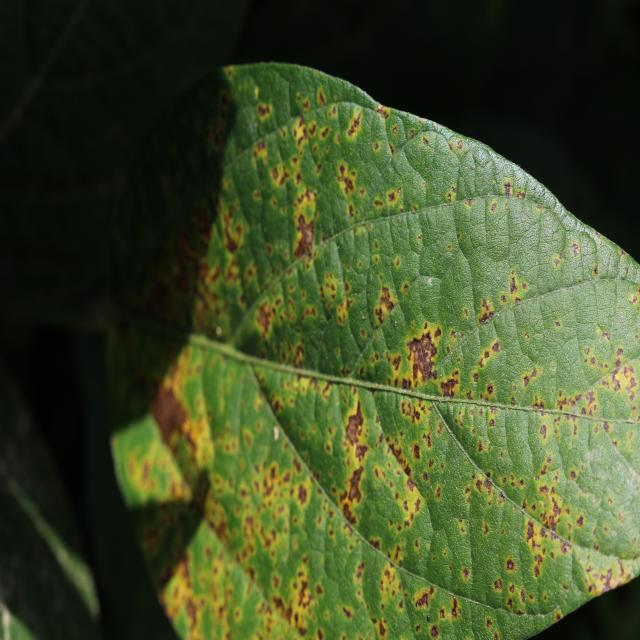Bacterial_Blight: (173, 543, 244, 638), (200, 351, 242, 468), (191, 234, 237, 334), (295, 212, 395, 253), (151, 378, 195, 459), (288, 378, 322, 454), (468, 469, 507, 521), (266, 315, 305, 365), (405, 331, 439, 383), (482, 600, 555, 622), (343, 394, 371, 450), (540, 493, 565, 533), (293, 214, 315, 258), (556, 388, 587, 415), (610, 364, 635, 396), (346, 464, 365, 506), (223, 219, 244, 253), (336, 165, 357, 198), (256, 301, 273, 335), (261, 464, 278, 498), (292, 115, 309, 146), (477, 298, 497, 324), (270, 161, 289, 188), (377, 287, 395, 314), (521, 366, 540, 391), (387, 441, 405, 466), (347, 111, 362, 138), (297, 582, 312, 609), (336, 299, 351, 326), (253, 140, 269, 165), (612, 415, 640, 428), (415, 590, 431, 609), (450, 595, 462, 619), (532, 555, 544, 579), (449, 137, 465, 155), (401, 400, 415, 420), (297, 483, 308, 506), (375, 102, 389, 119), (525, 519, 535, 542), (257, 103, 271, 119), (509, 272, 519, 294), (532, 396, 545, 411), (603, 568, 613, 587), (327, 104, 338, 120), (317, 89, 327, 106), (570, 242, 580, 257), (628, 292, 638, 307), (412, 443, 421, 459), (504, 183, 513, 198), (539, 424, 547, 440), (600, 330, 611, 341), (506, 558, 515, 571), (491, 340, 500, 353), (430, 625, 439, 638), (343, 606, 352, 619), (387, 190, 396, 202), (494, 578, 502, 591), (434, 325, 442, 338), (485, 617, 493, 630), (374, 199, 383, 210), (462, 568, 470, 580), (569, 469, 577, 481), (435, 487, 442, 500), (273, 426, 279, 441), (486, 384, 494, 395), (422, 136, 430, 147), (554, 257, 562, 268), (533, 347, 541, 357), (391, 125, 398, 136), (373, 141, 380, 152), (389, 143, 395, 155), (426, 277, 434, 286), (490, 203, 497, 213), (485, 472, 492, 481), (472, 373, 478, 383), (621, 248, 628, 256), (447, 193, 452, 201)
Soybean: (100, 61, 640, 640)
